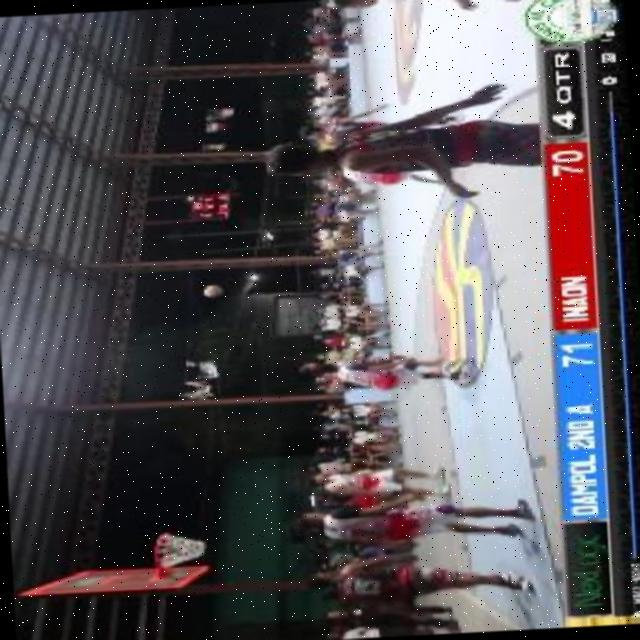ball: (200, 284, 226, 299)
hoop: (151, 530, 175, 574)
